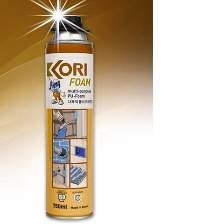aerosol_cans: (40, 12, 100, 222)
